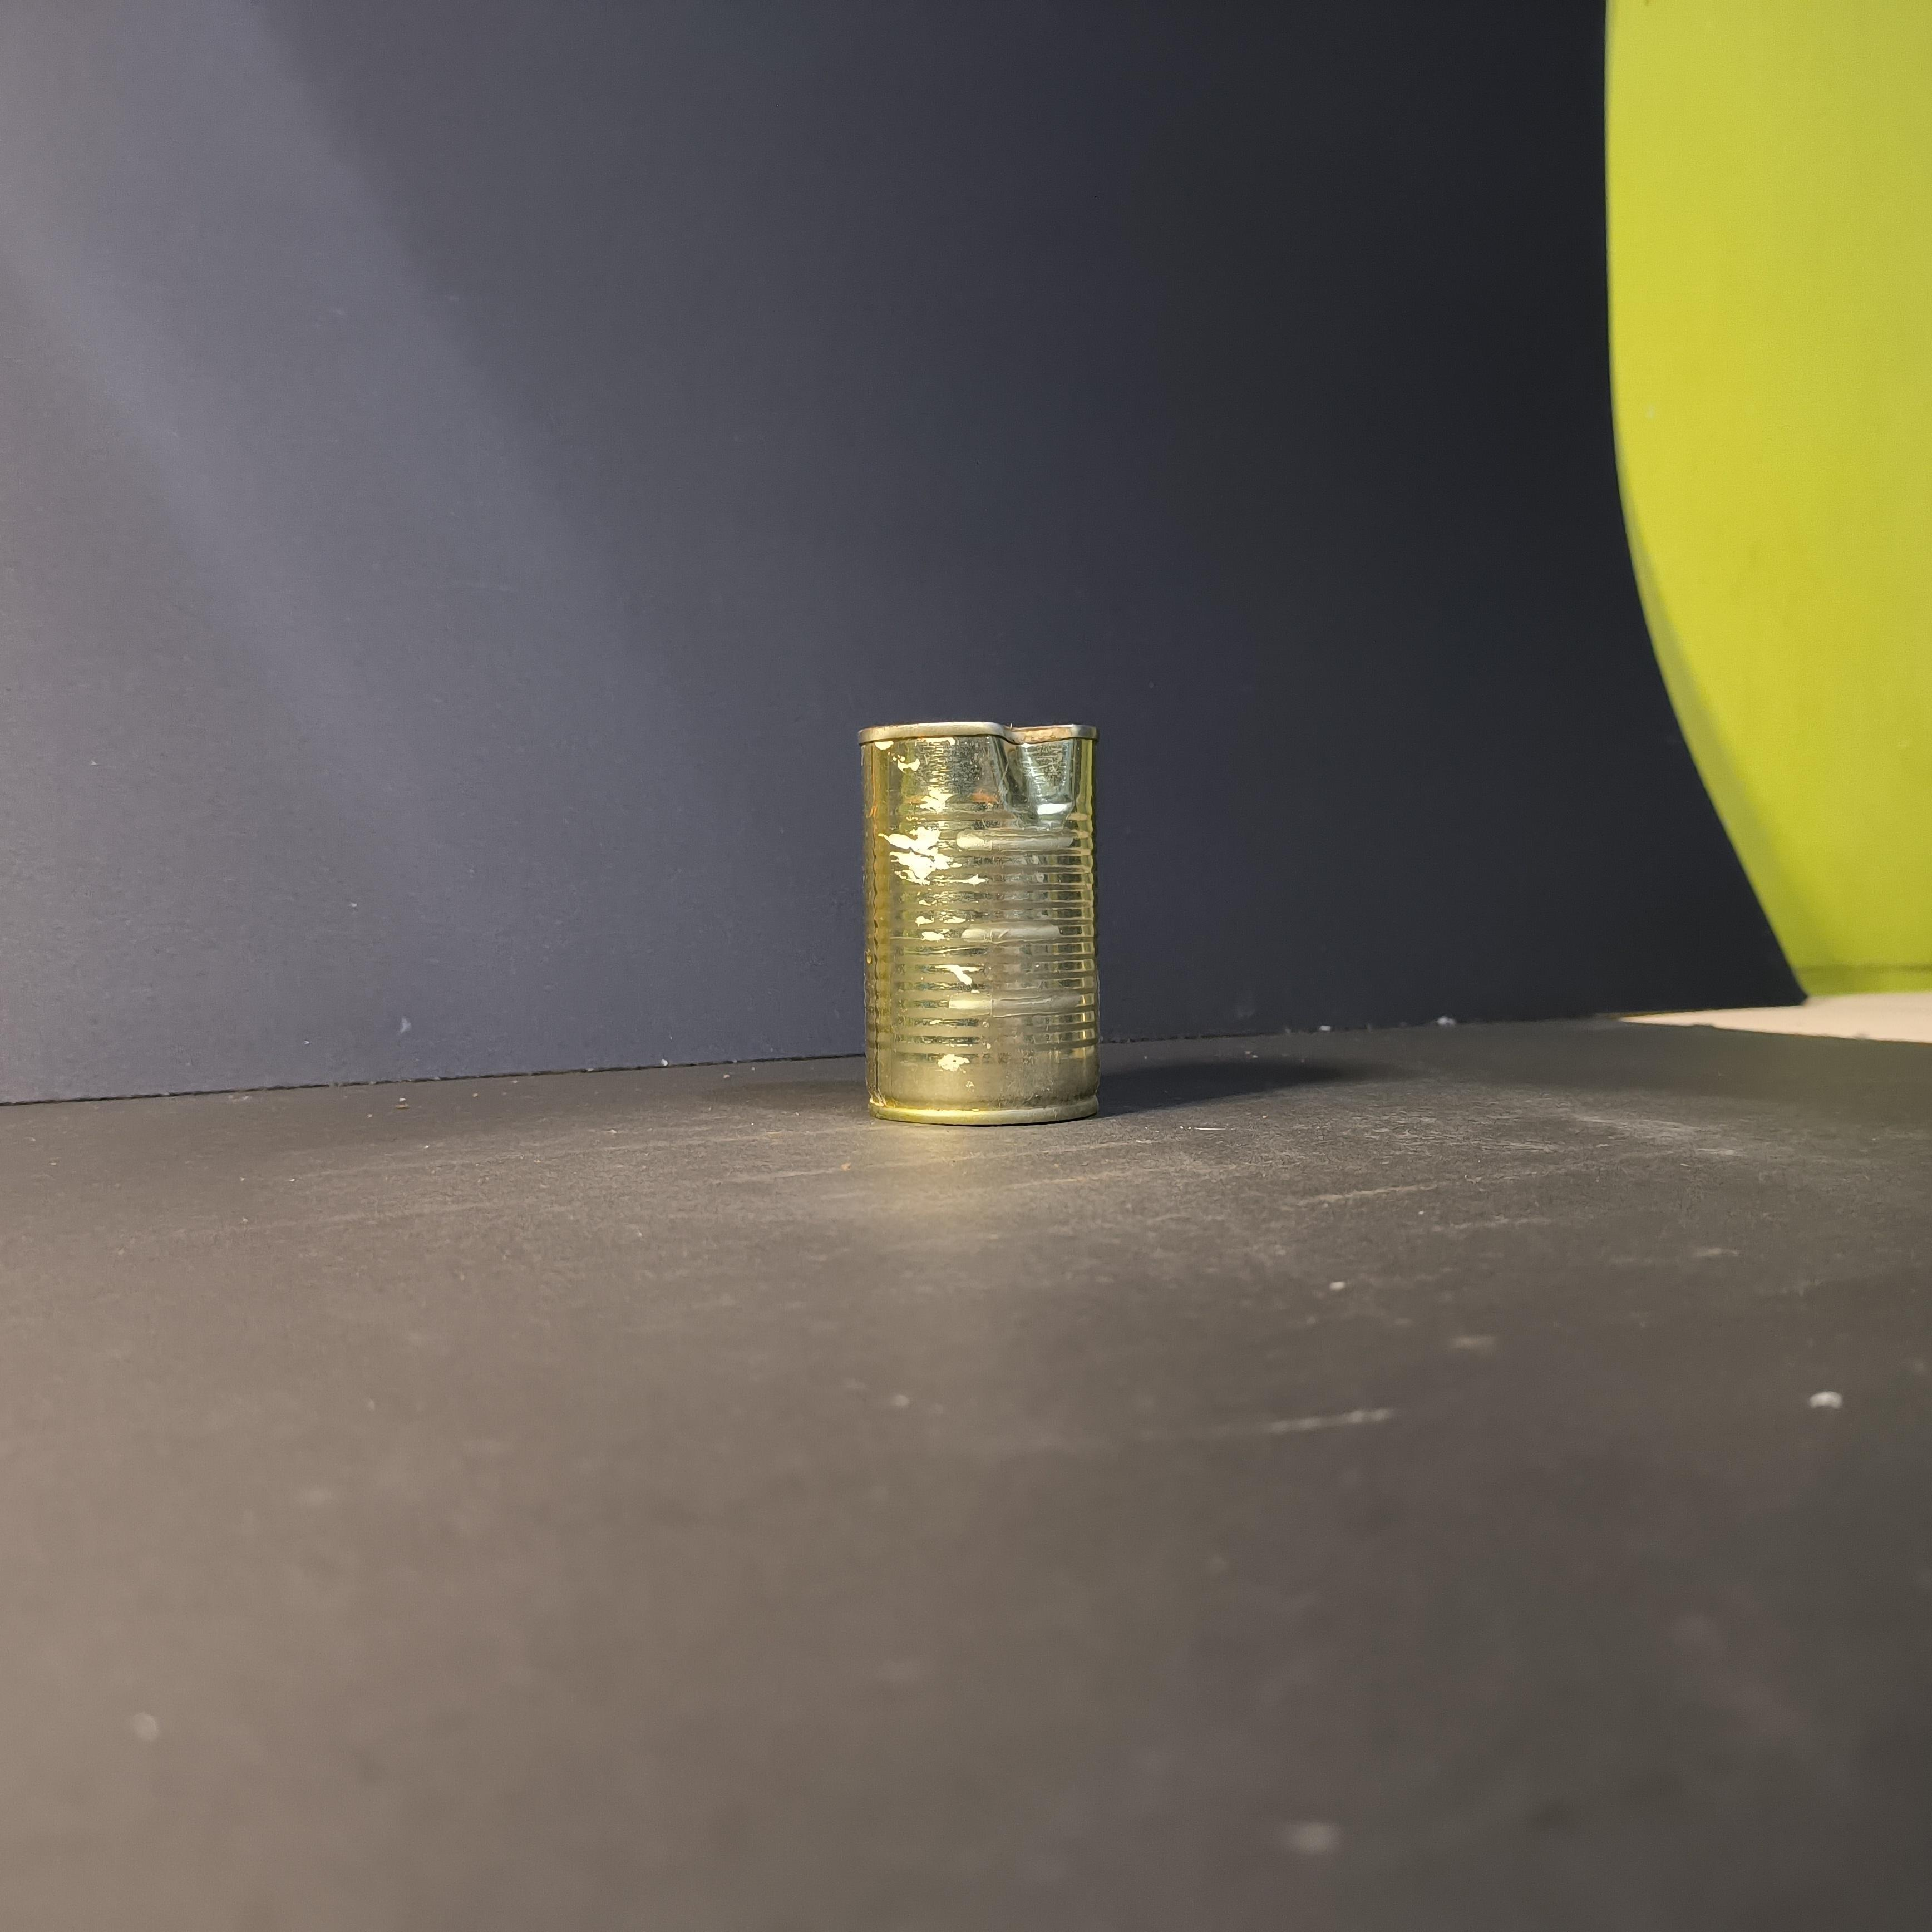Dented: (842, 674, 1122, 1132)
